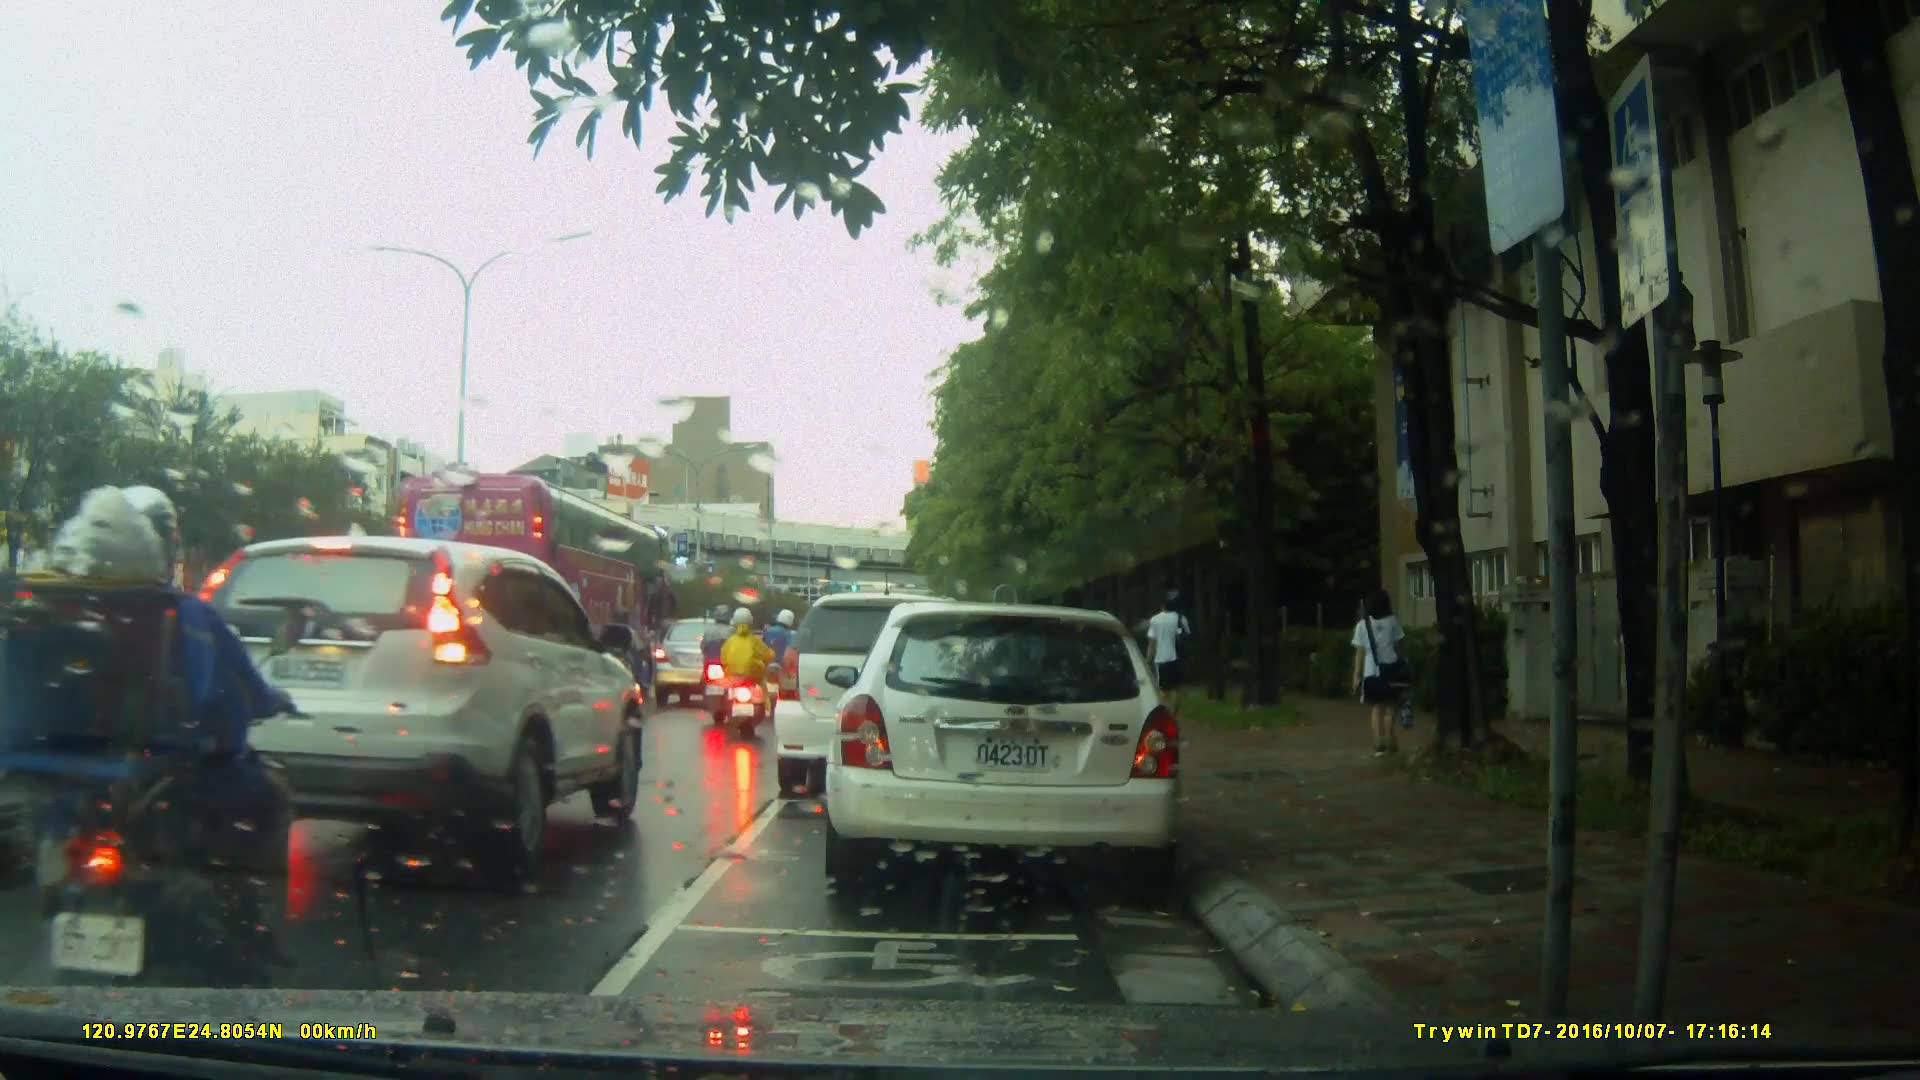pedestrian: (1337, 582, 1421, 775), (1143, 591, 1192, 723)
rider: (1, 485, 309, 1029), (717, 606, 768, 742), (693, 599, 746, 721), (762, 605, 806, 710)
vehicle: (180, 535, 651, 877), (835, 594, 1194, 898), (385, 473, 680, 681), (776, 590, 1026, 784), (651, 616, 763, 704)
